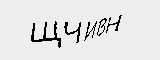В: (95, 16, 107, 38)
И: (82, 18, 98, 41)
Н: (104, 13, 123, 35)
Ч: (63, 18, 83, 45)
Щ: (27, 18, 64, 50)
